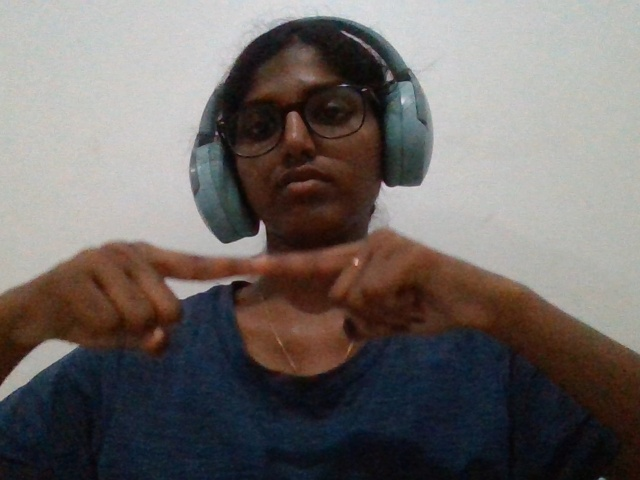Sign: (28, 204, 497, 400)
